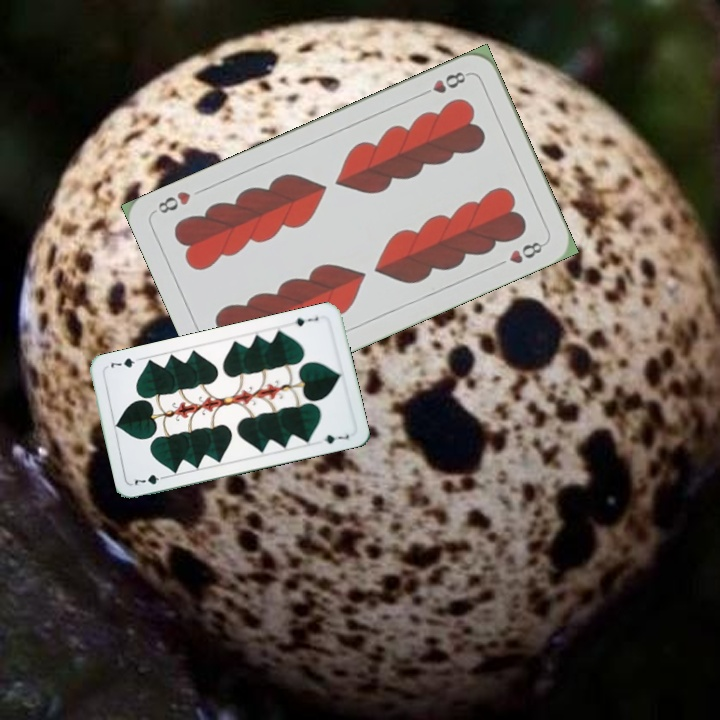G7: (130, 470, 170, 488), (291, 312, 321, 329)
H8: (416, 67, 472, 99)
